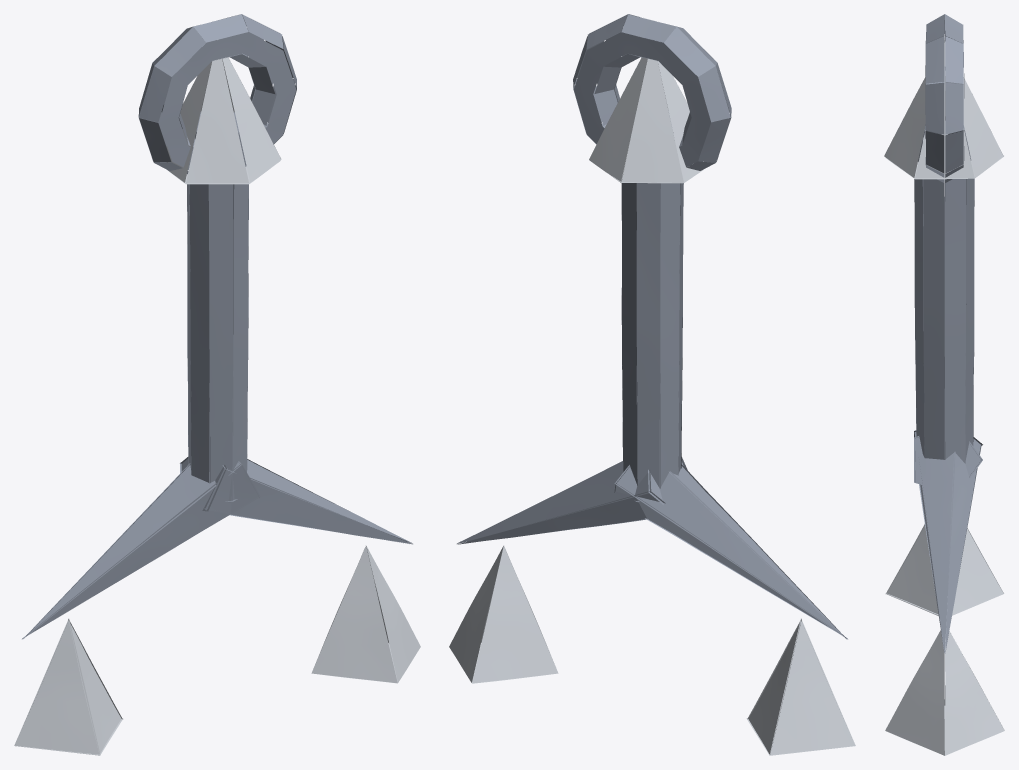
Rendered from anchor.glb.
3 renders of one model, left to right at view 1: azimuth 30°, elevation 25°; view 2: azimuth 150°, elevation 25°; view 3: azimuth 270°, elevation 25°, orthographic. The views are drawn at different scales.
Visible parts, largest first — view 1: PangAnchorShank; view 2: PangAnchorShank; view 3: PangAnchorShank.
Part boxes in pixels (x1,y1,x2,y2): PangAnchorShank: [14, 14, 420, 755]; PangAnchorShank: [449, 14, 855, 755]; PangAnchorShank: [884, 14, 1004, 755].
Bounding box in the file's own units: 1.04 × 1.65 × 0.2831.
